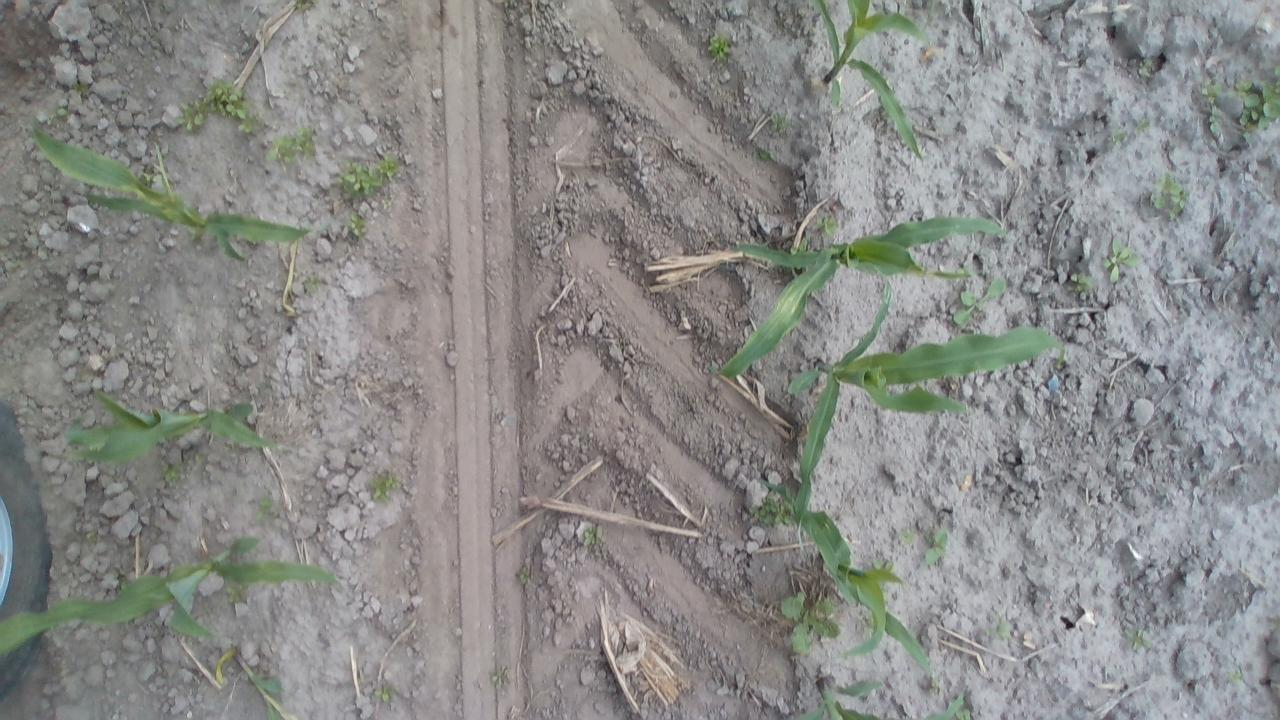Maize: (782, 274, 1057, 556), (678, 220, 1011, 380), (0, 527, 349, 663), (22, 115, 324, 259), (759, 461, 937, 681), (798, 0, 933, 169), (58, 384, 278, 474), (781, 675, 981, 719), (211, 642, 290, 720)
Weeds: (173, 77, 258, 134), (779, 590, 841, 658), (1232, 64, 1280, 138), (336, 154, 401, 204), (950, 275, 1007, 326), (265, 123, 321, 168), (1146, 171, 1188, 220), (1102, 235, 1139, 285), (751, 492, 795, 528), (1202, 78, 1226, 138), (923, 524, 952, 568), (367, 468, 400, 504), (1120, 624, 1154, 654), (939, 692, 974, 718), (705, 33, 736, 62), (985, 616, 1013, 646), (160, 459, 186, 488), (580, 521, 606, 550), (1070, 271, 1098, 297), (254, 495, 282, 521), (813, 212, 843, 236), (347, 210, 371, 238), (372, 680, 397, 706), (489, 664, 512, 690), (224, 582, 250, 604), (769, 112, 793, 135), (1108, 127, 1130, 151), (516, 561, 536, 587), (870, 555, 898, 572), (46, 104, 68, 124), (80, 528, 102, 548), (754, 146, 778, 164), (1138, 60, 1158, 81), (302, 274, 323, 294), (289, 0, 318, 13), (140, 164, 156, 187), (1134, 116, 1153, 135), (1226, 666, 1244, 686), (70, 80, 90, 98), (896, 526, 916, 544), (1054, 350, 1070, 368), (189, 449, 204, 468)
